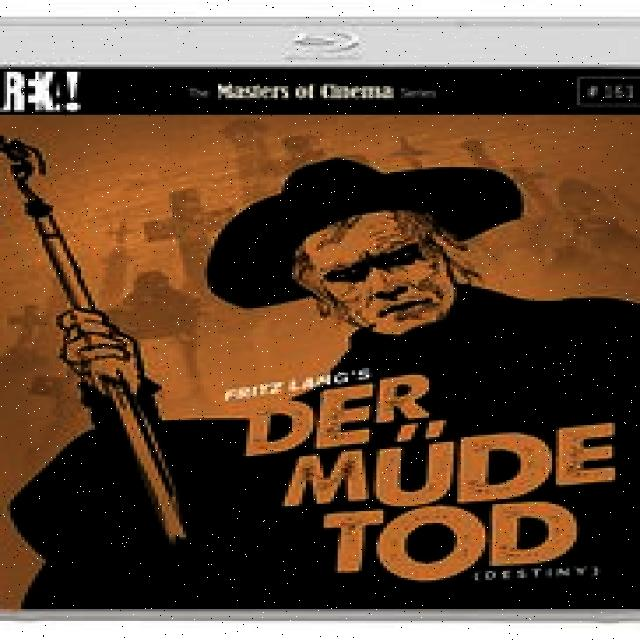movie-judul: (219, 374, 635, 578)
picture: (20, 130, 640, 601)
